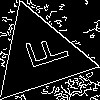F: (15, 30, 71, 75)
